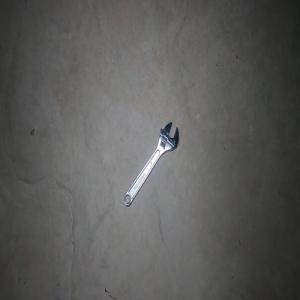Wrench: (123, 121, 179, 206)
